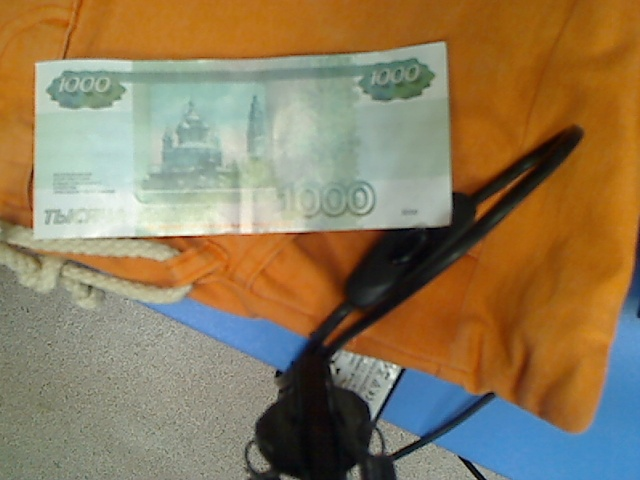banknotes: (33, 37, 456, 240)
